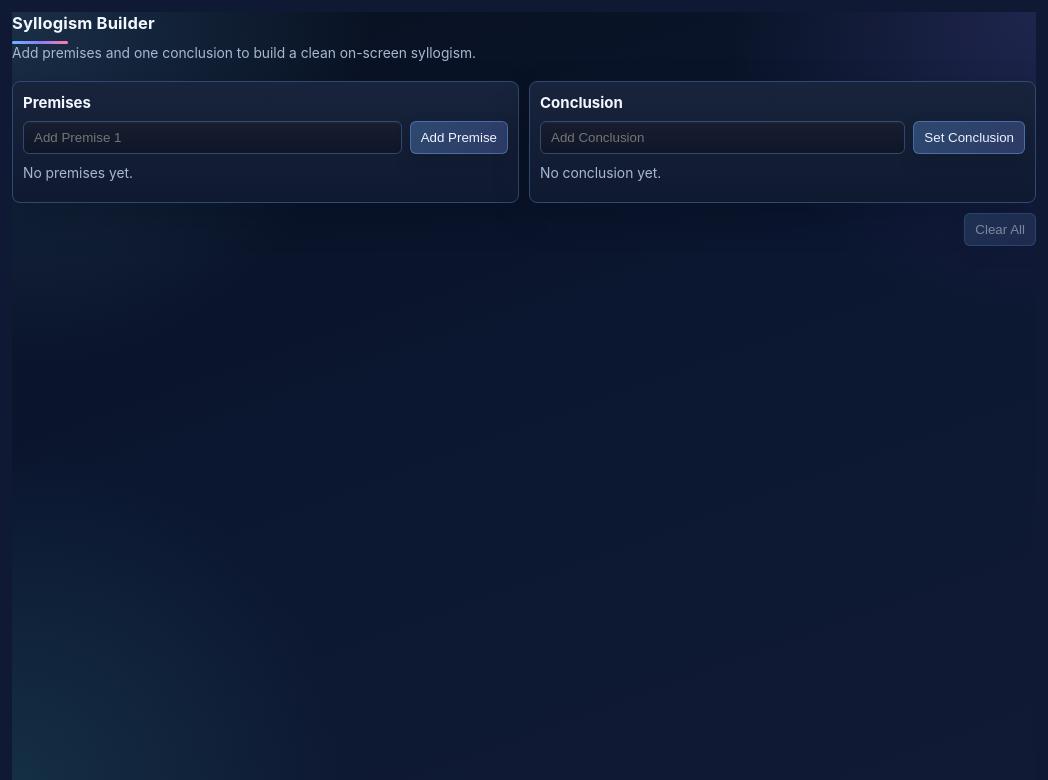
Test case: SyllogismBuilderPage › adds premises with ordinals and allows removing a premise
Type "All humans are mortal." into the field labelled "Add Premise" at (212, 138), box [23,121,402,154]
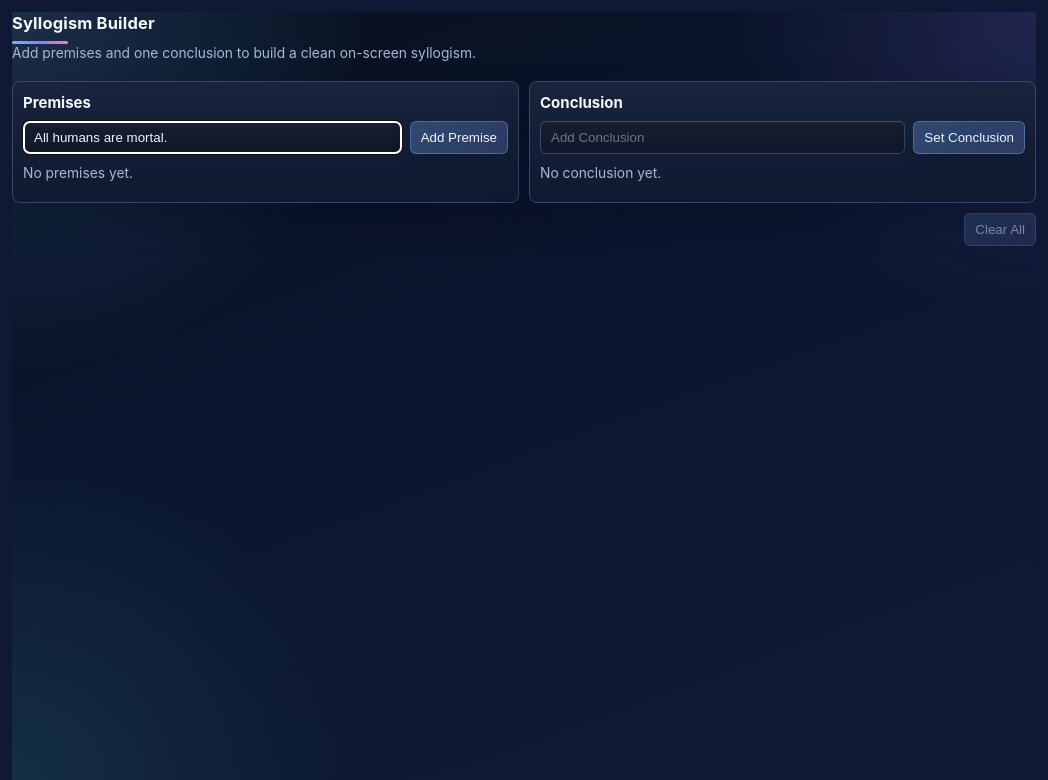
Click the button "Add Premise" at (459, 138), box [410,121,508,154]
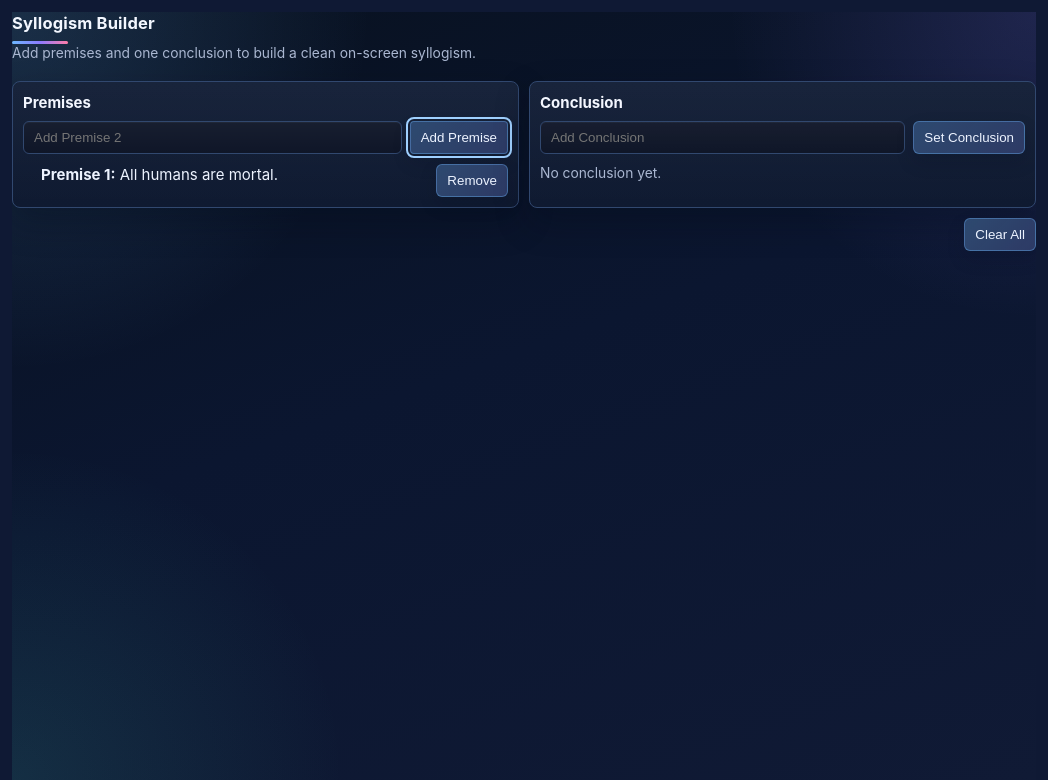
Type "Socrates is human." into the field labelled "Add Premise" at (212, 138), box [23,121,402,154]
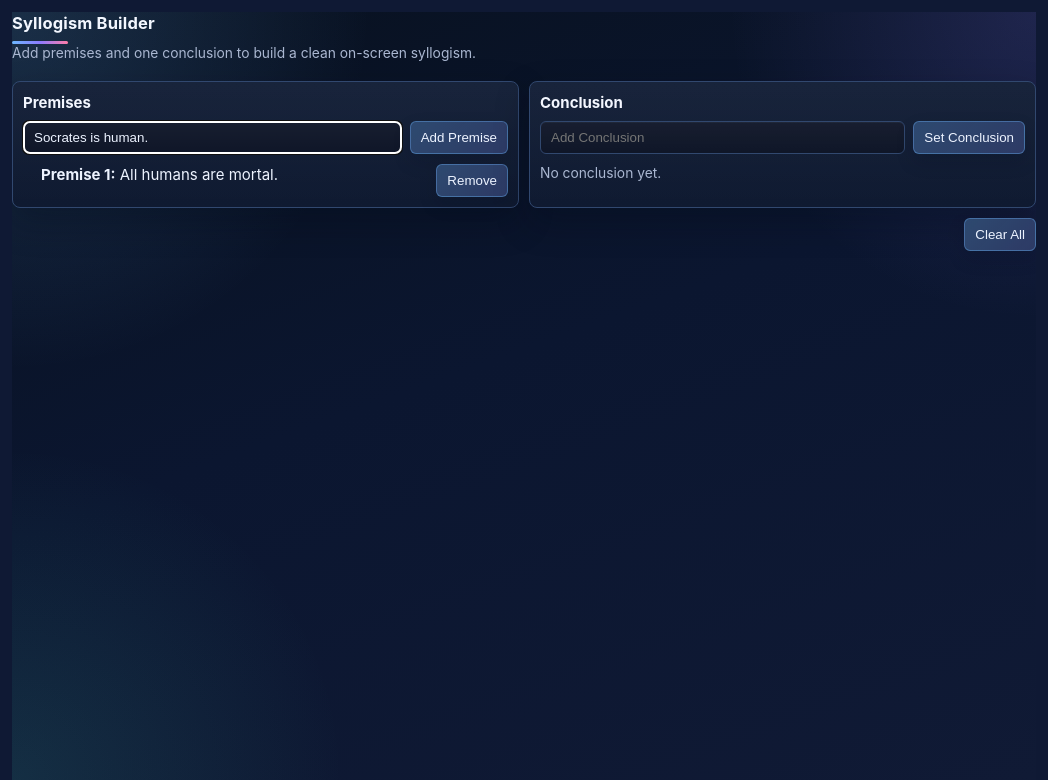
Click the button "Add Premise" at (459, 138), box [410,121,508,154]
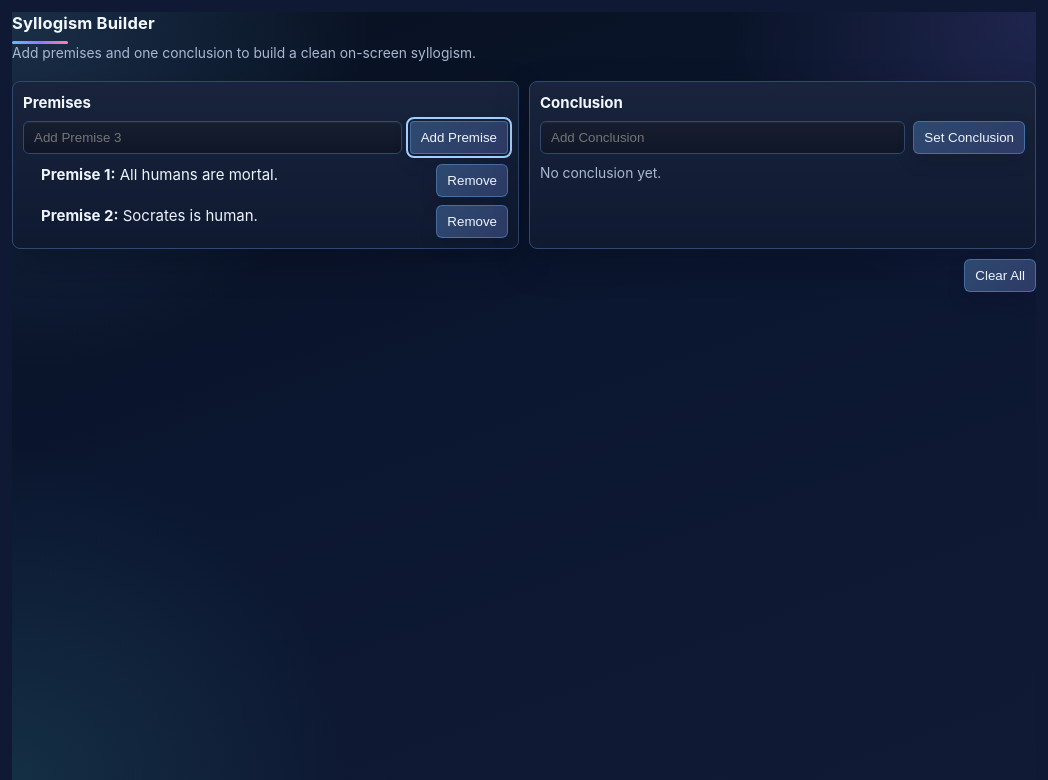
Check: the text "Premise 1:" is shown, box [41,165,116,184]
Check: the text "Premise 2:" is shown, box [41,206,118,225]
Click the button "Remove" in the row of "Premise 1:" at (472, 181), box [436,164,508,197]
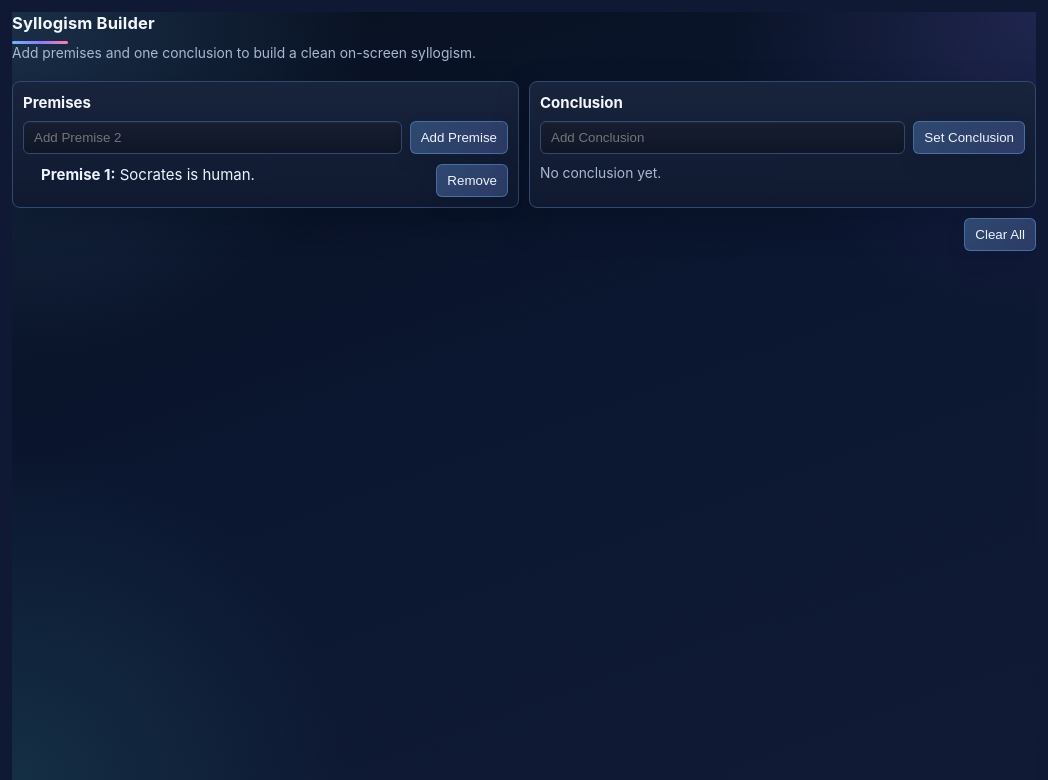
Check: the text "All humans are mortal." is gone
